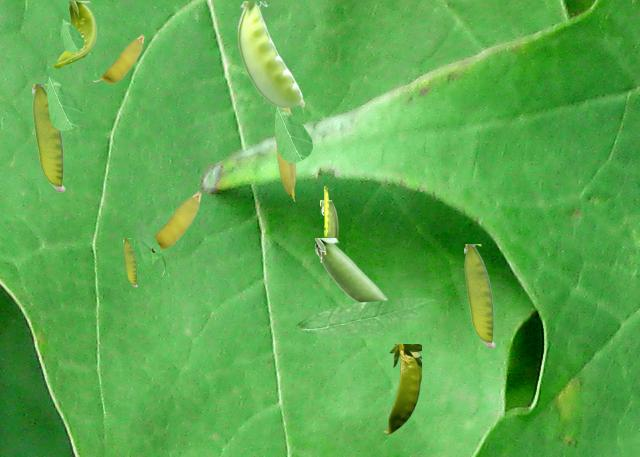pea: (237, 1, 303, 113), (315, 238, 388, 301), (32, 84, 64, 191), (382, 344, 420, 433), (464, 244, 494, 347), (52, 1, 95, 67), (154, 191, 200, 248), (93, 34, 143, 82), (275, 108, 295, 200), (320, 200, 338, 244), (123, 238, 136, 286), (324, 186, 330, 237)
